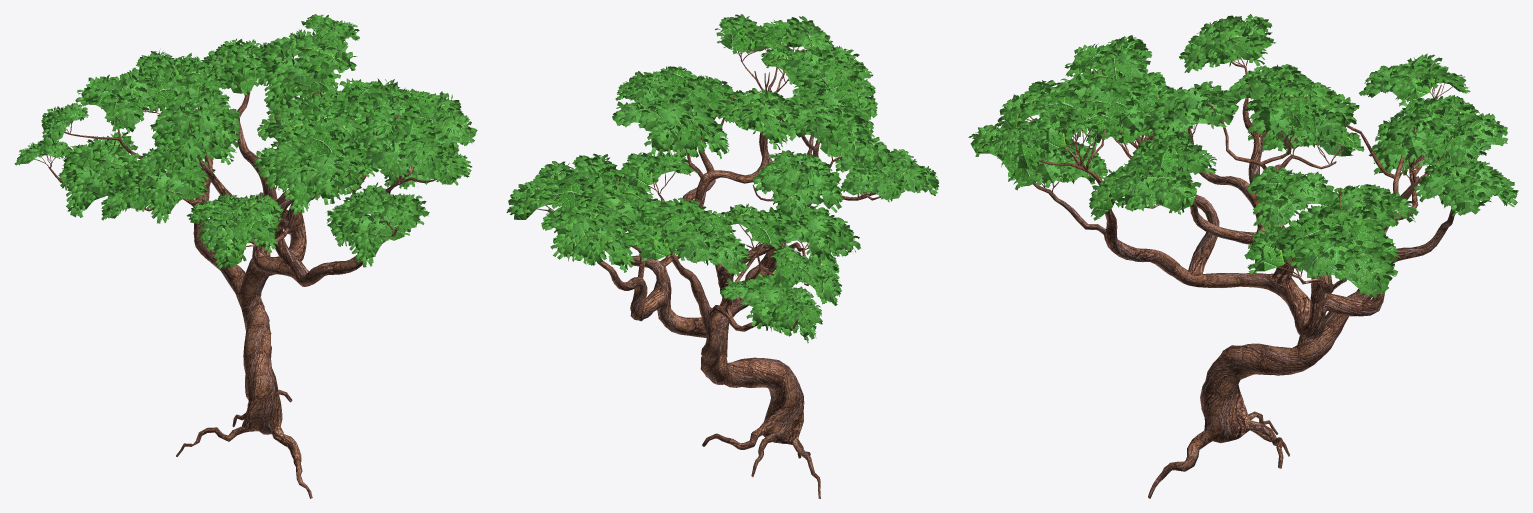
File: tree1.glb
3 views of the same model, side by side, from view 1: azimuth 30°, elevation 25°; view 2: azimuth 150°, elevation 25°; view 3: azimuth 270°, elevation 25° (orthographic). The views are drawn at different scales.
Visible parts, largest first — view 1: old tree_leaf old tree_0, old tree_old treetop_0, old tree_leaf old tree_0.001, old tree_oldtrunk_0; view 2: old tree_leaf old tree_0, old tree_old treetop_0, old tree_leaf old tree_0.001, old tree_oldtrunk_0; view 3: old tree_old treetop_0, old tree_leaf old tree_0, old tree_oldtrunk_0, old tree_leaf old tree_0.001.
Boxes of the visible parts, bbox=[...] form: old tree_leaf old tree_0: bbox=[14, 14, 477, 252]; old tree_old treetop_0: bbox=[20, 17, 472, 268]; old tree_leaf old tree_0.001: bbox=[17, 16, 471, 268]; old tree_oldtrunk_0: bbox=[34, 65, 436, 498]; old tree_leaf old tree_0: bbox=[506, 14, 907, 328]; old tree_old treetop_0: bbox=[514, 18, 933, 336]; old tree_leaf old tree_0.001: bbox=[514, 42, 938, 343]; old tree_oldtrunk_0: bbox=[537, 42, 881, 498]; old tree_old treetop_0: bbox=[970, 20, 1511, 294]; old tree_leaf old tree_0: bbox=[968, 53, 1518, 298]; old tree_oldtrunk_0: bbox=[1026, 22, 1455, 498]; old tree_leaf old tree_0.001: bbox=[982, 14, 1507, 278].
Bounding box in the file's own units: 5.68 × 6.32 × 6.85.
3 materials, 3 textured.
